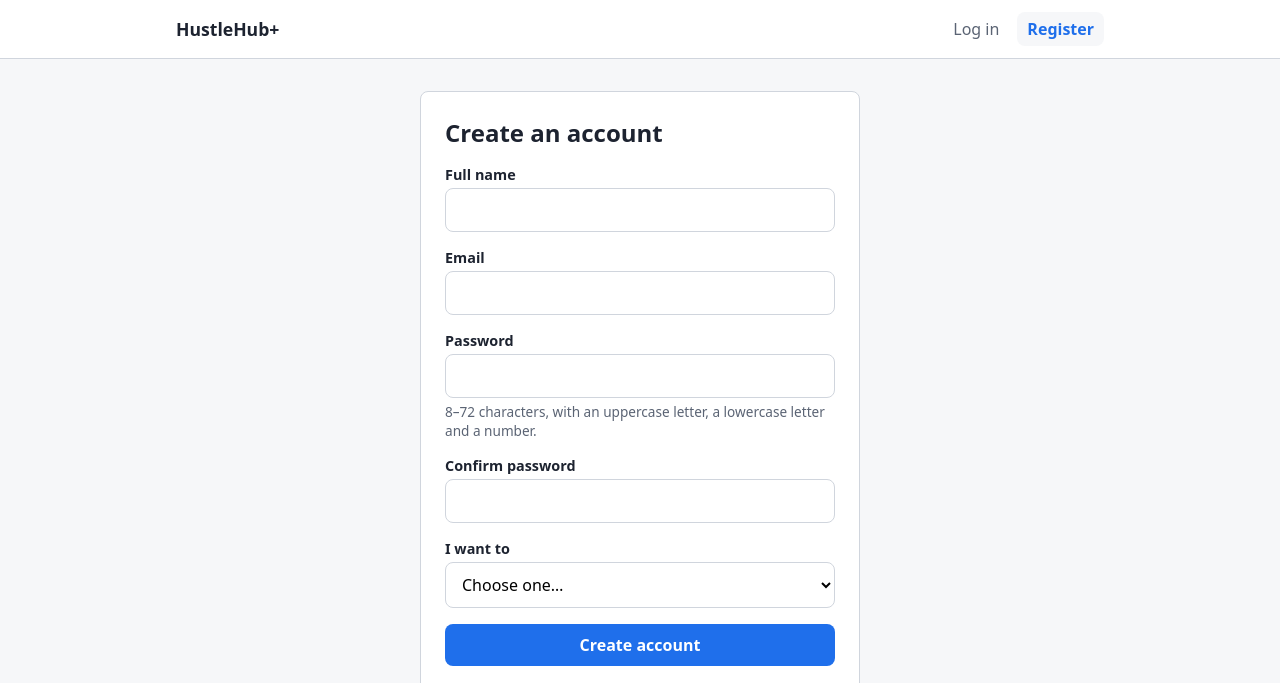
Test: RegisterPage › shows the API message when the email is already registered
Type "Thandi Mokoena" into the field labelled "Full name" at (640, 210), box [445,188,835,232]
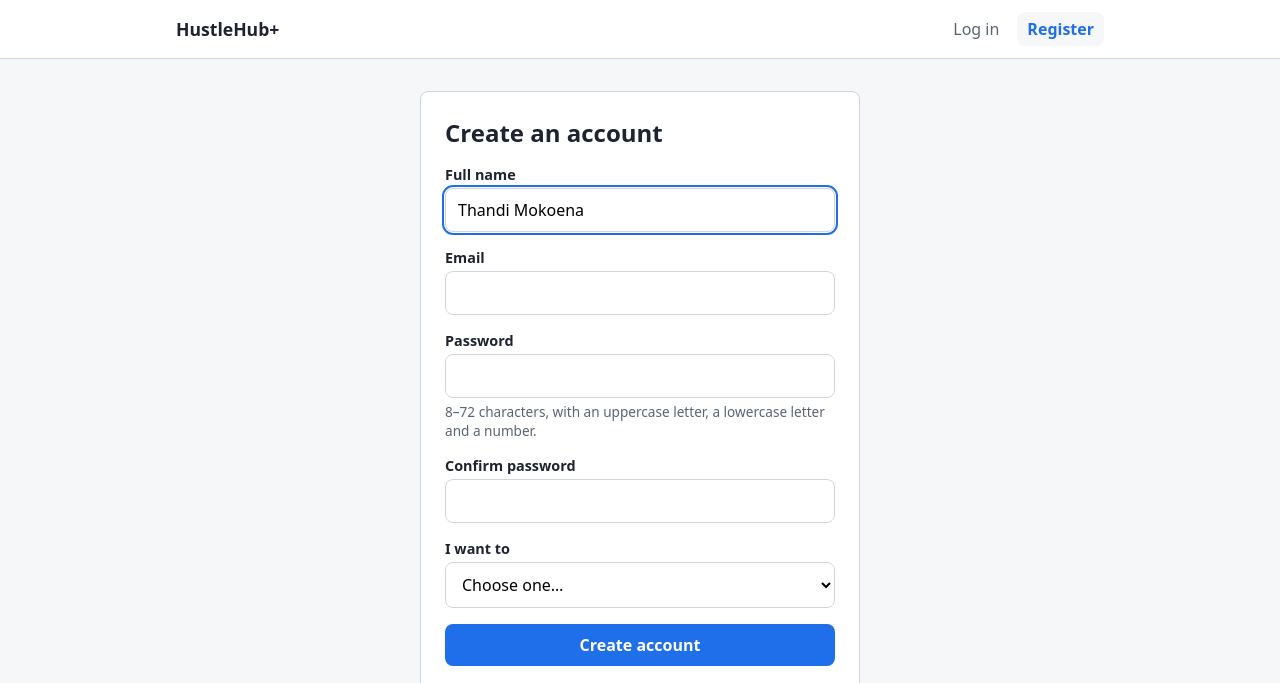
Type "thandi@example.com" into the field labelled "Email" at (640, 293), box [445,271,835,315]
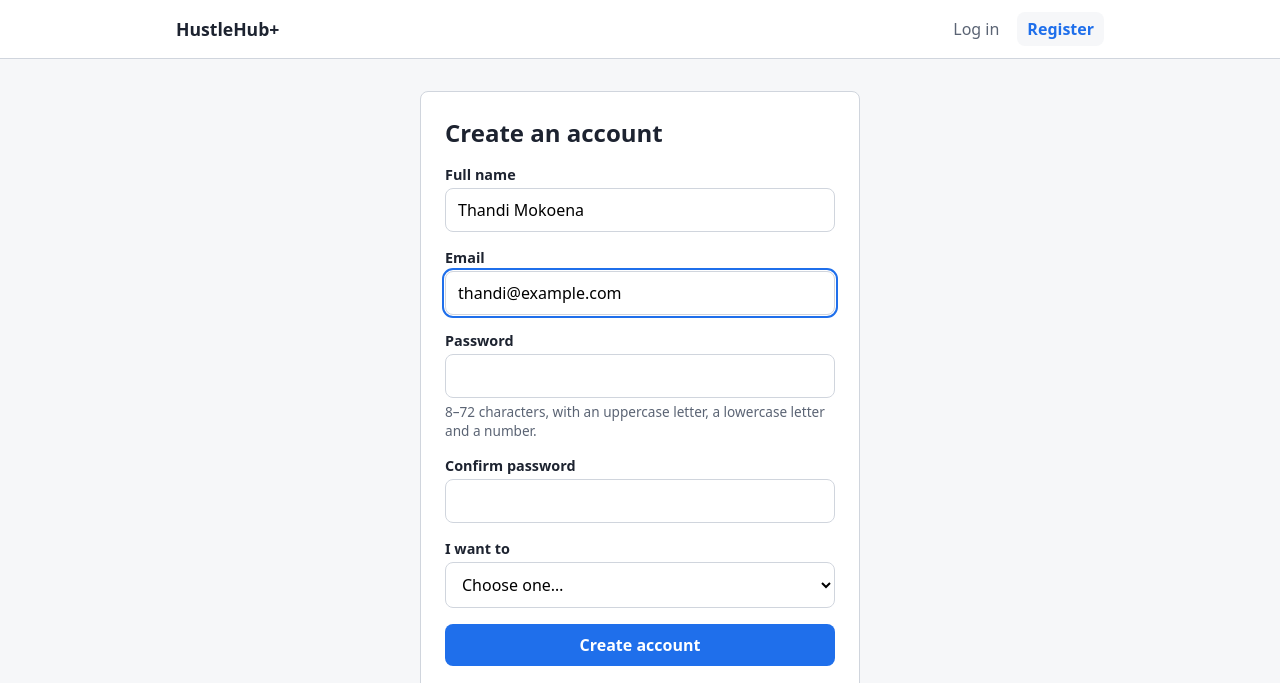
Type "Secure123" into the password field labelled "Password" at (640, 376), box [445,354,835,398]
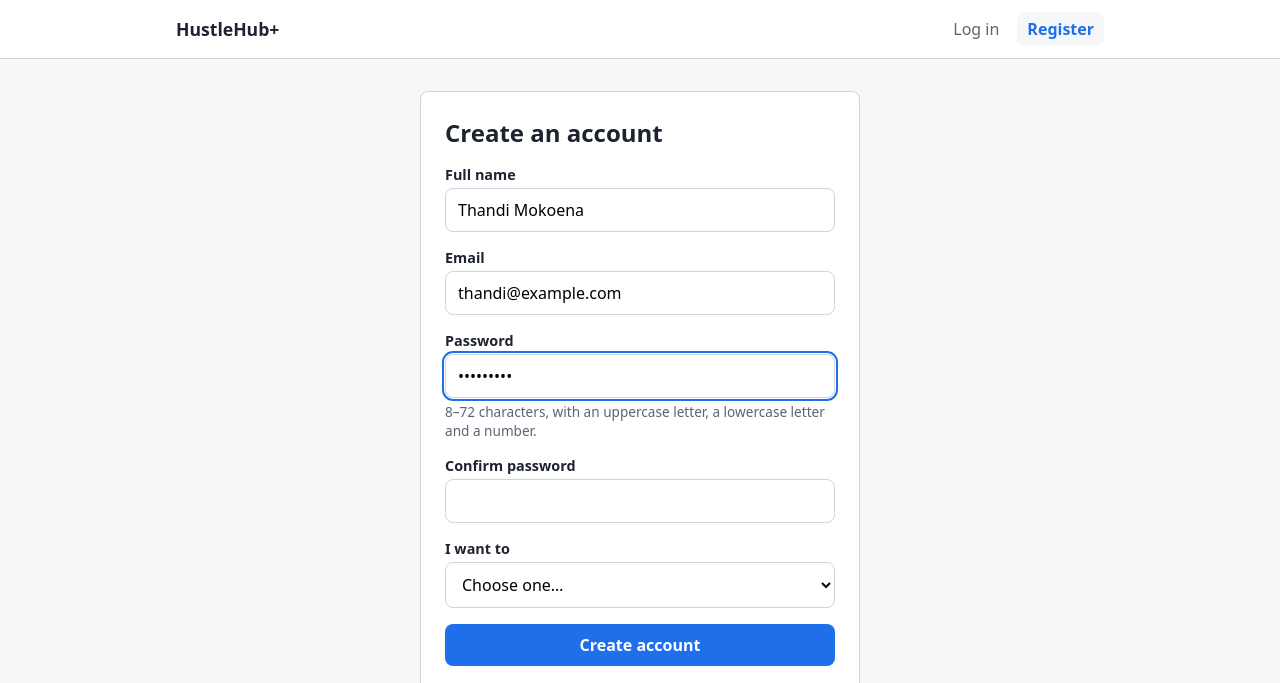
Type "Secure123" into the password field labelled "Confirm password" at (640, 501), box [445,479,835,523]
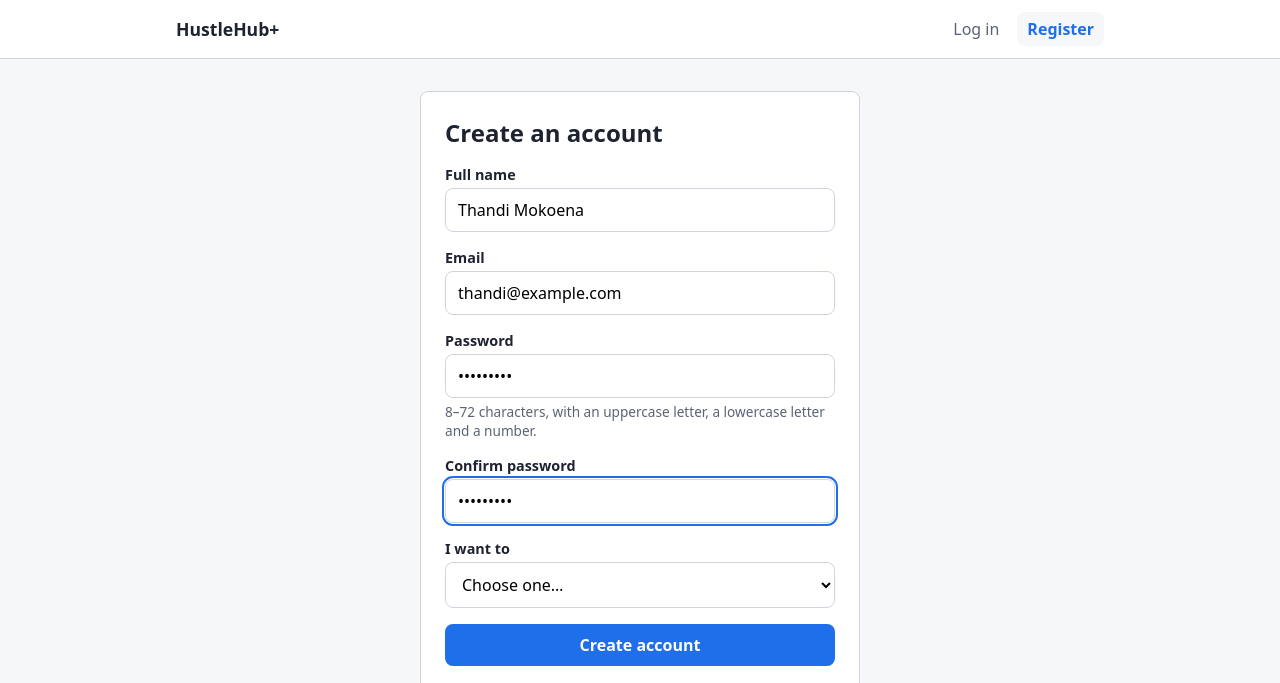
Select "Hire freelancers (client)" in the dropdown labelled "I want to" at (640, 585), box [445,562,835,608]
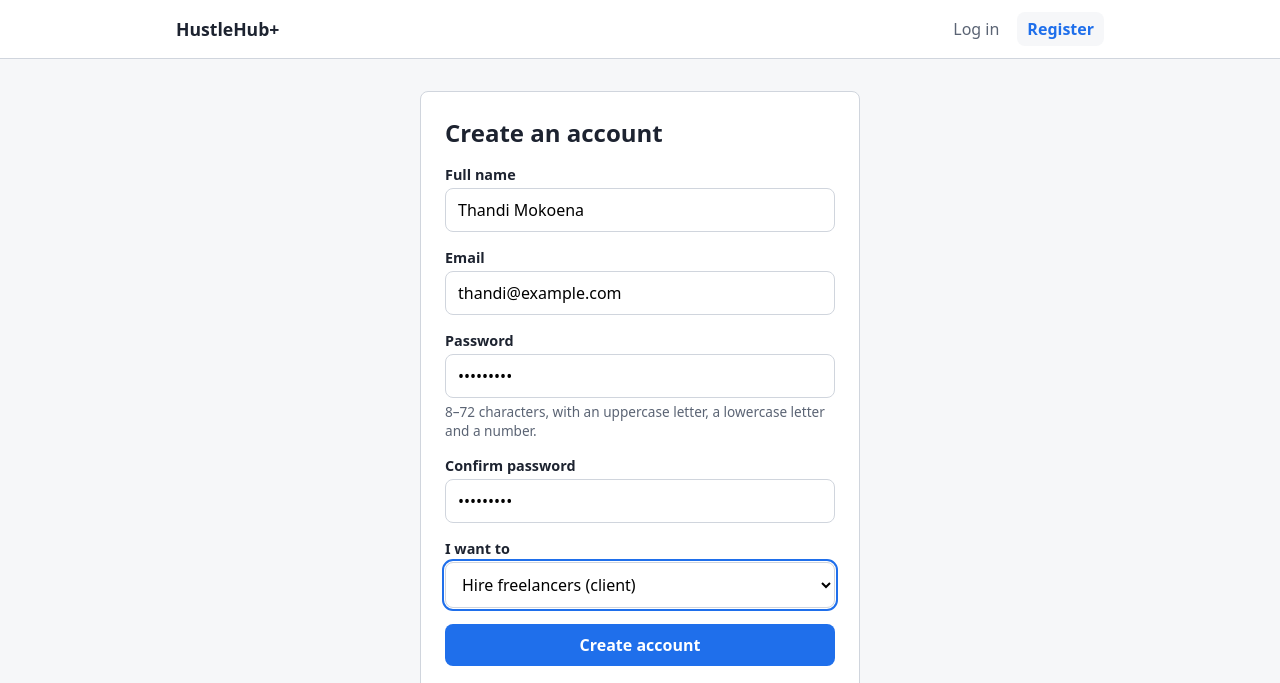
Click the button "Create account" at (640, 645), box [445,624,835,666]
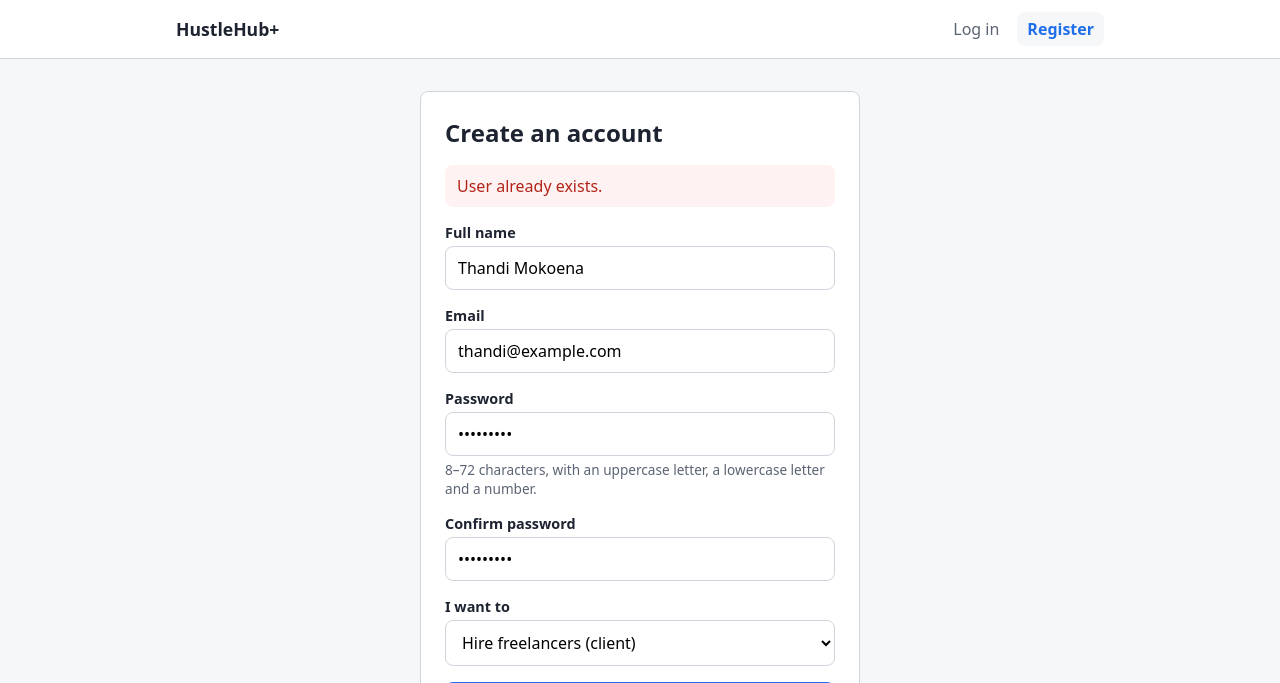
Check: the message reads "User already exists.", box [457,175,602,197]
